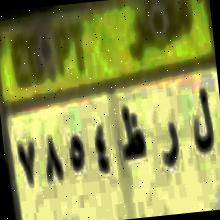4: (91, 118, 111, 178)
5: (66, 130, 89, 180)
8: (38, 130, 66, 194), (15, 136, 40, 196)
Thaa: (111, 96, 148, 168)
laam: (186, 82, 219, 158)
raa: (158, 119, 182, 177)
